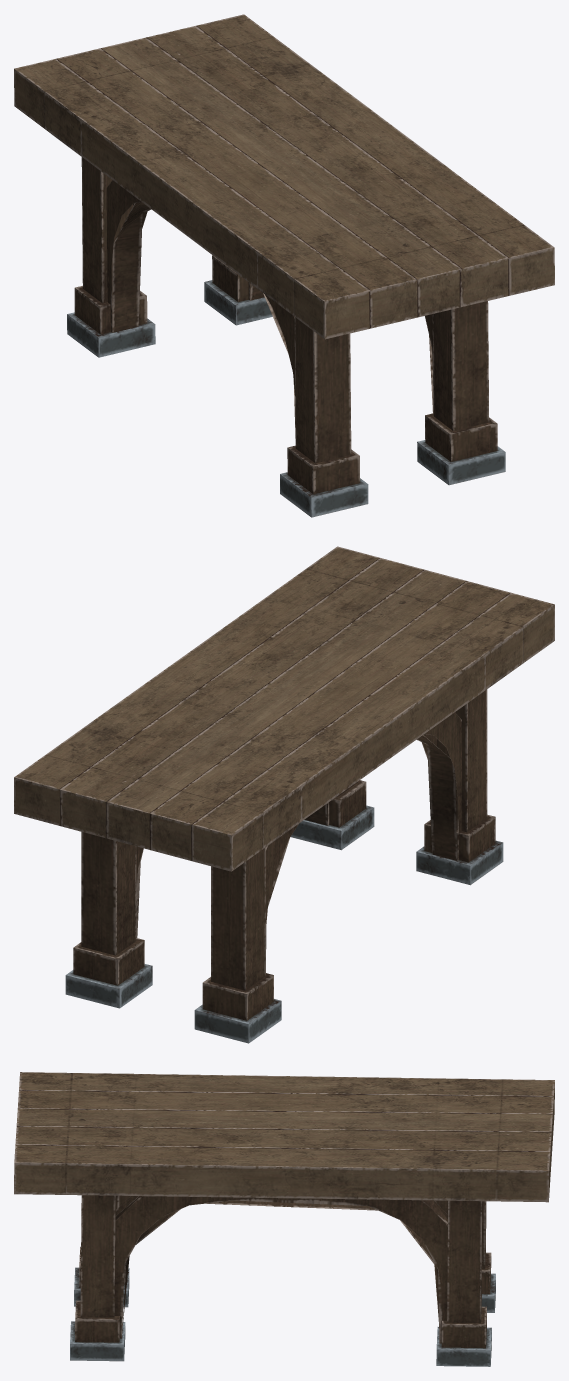
File: desk.glb
The picture shows the model from 3 angles, top to bottom: view 1: azimuth 30°, elevation 25°; view 2: azimuth 150°, elevation 25°; view 3: azimuth 270°, elevation 25°; orthographic projection. The views are drawn at different scales.
Visible parts, largest first — view 1: Cube.040_aiStandardSurface5_0; view 2: Cube.040_aiStandardSurface5_0; view 3: Cube.040_aiStandardSurface5_0.
Part boxes in pixels (left/top/right/bottom): Cube.040_aiStandardSurface5_0: left=14, top=14, right=554, bottom=517; Cube.040_aiStandardSurface5_0: left=14, top=546, right=554, bottom=1043; Cube.040_aiStandardSurface5_0: left=14, top=1072, right=554, bottom=1366.
Size of the model in its own units: 0.6718 by 0.6755 by 1.59.
1 material, 1 textured.
